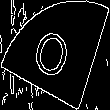O_SW: (32, 22, 78, 88)
